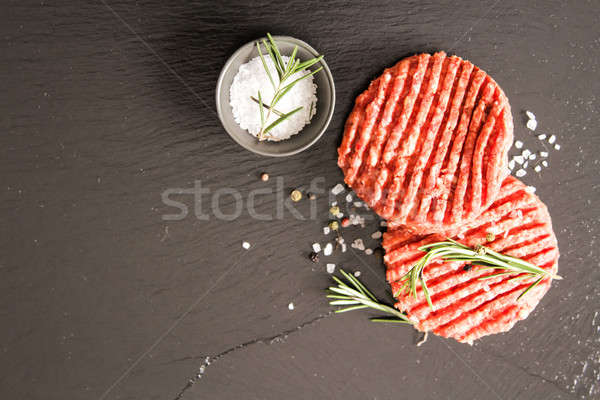ground_beef: (336, 48, 554, 351)
